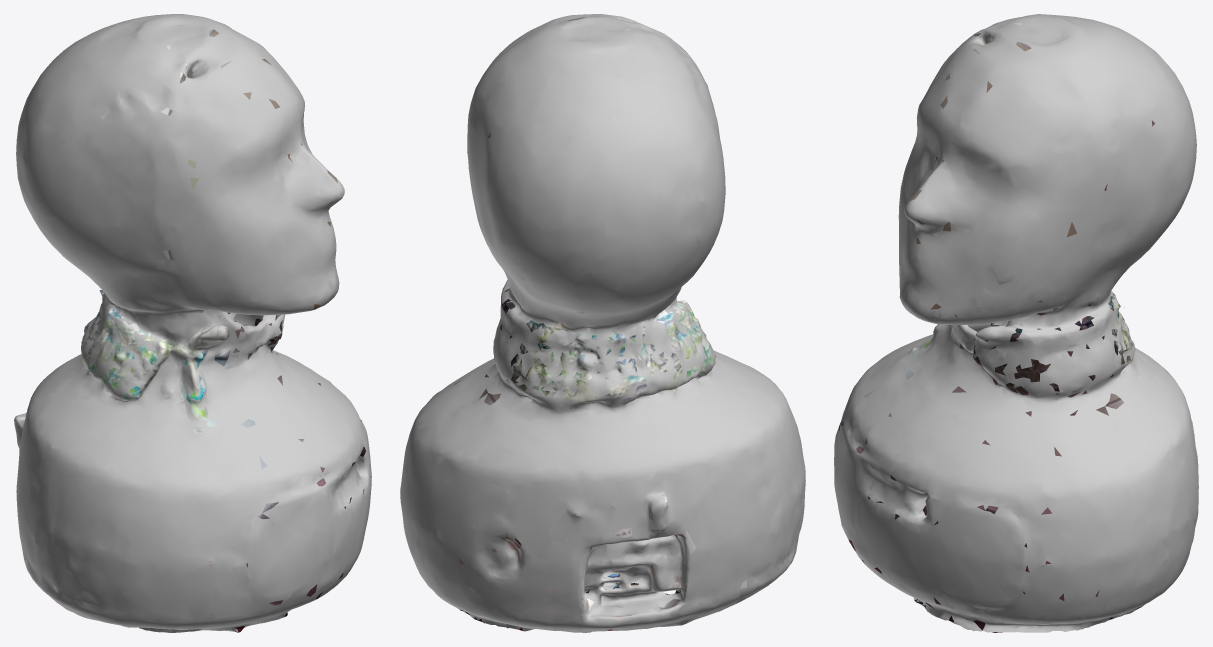
Rendered from mesh_lowpoly.obj.
3 renders of one model, left to right at view 1: azimuth 30°, elevation 25°; view 2: azimuth 150°, elevation 25°; view 3: azimuth 270°, elevation 25°, orthographic. The views are drawn at different scales.
Size of the model in its own units: 1.36 by 2.14 by 1.32.
